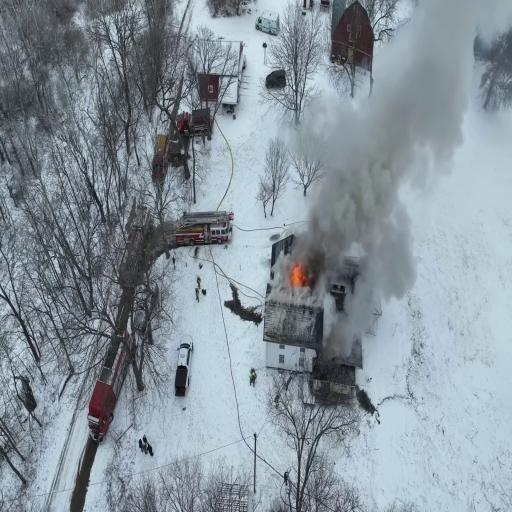fire: (287, 262, 309, 302)
smoke: (320, 151, 390, 280)
